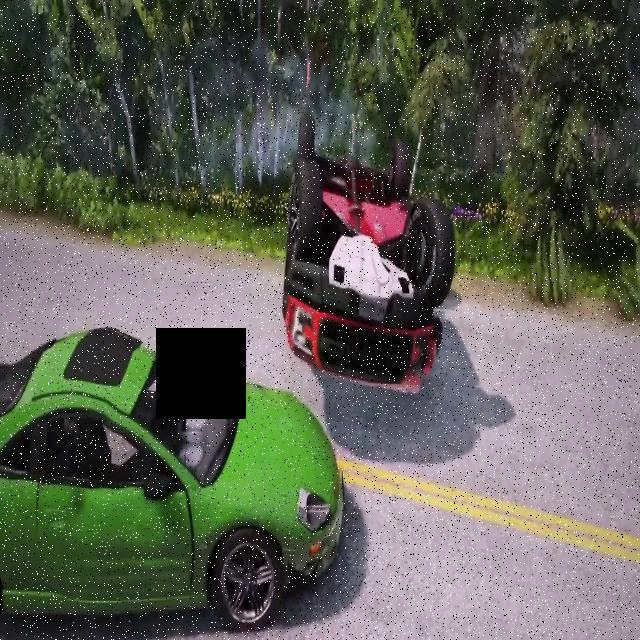vehicle: (258, 122, 476, 390)
